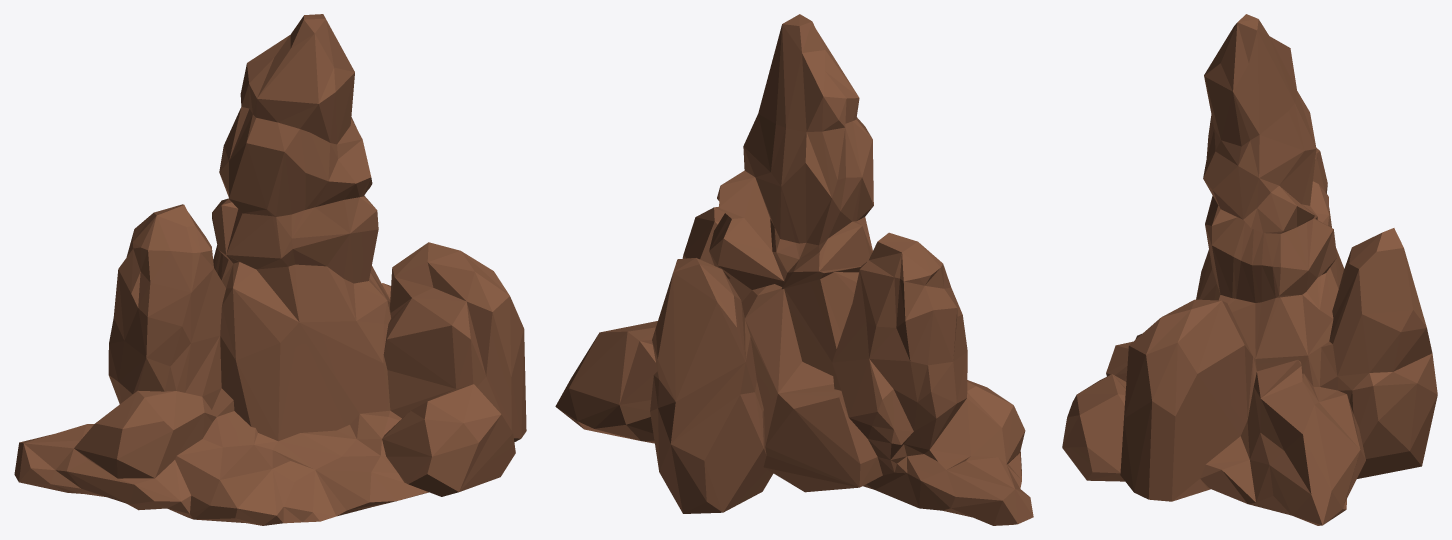
Rendered from rock_b.glb.
The picture shows the model from 3 angles, left to right: view 1: azimuth 30°, elevation 25°; view 2: azimuth 150°, elevation 25°; view 3: azimuth 270°, elevation 25°; orthographic projection. The views are drawn at different scales.
Parts seen in each view (by area): view 1: SM_Env_Rocks_Spikey_01; view 2: SM_Env_Rocks_Spikey_01; view 3: SM_Env_Rocks_Spikey_01.
Part boxes in pixels (x1,y1,x2,y2): SM_Env_Rocks_Spikey_01: (14, 14, 526, 525); SM_Env_Rocks_Spikey_01: (555, 14, 1033, 525); SM_Env_Rocks_Spikey_01: (1062, 14, 1437, 525).
Size of the model in its own units: 3.57 by 3.2 by 2.51.
1 material, 1 textured.
